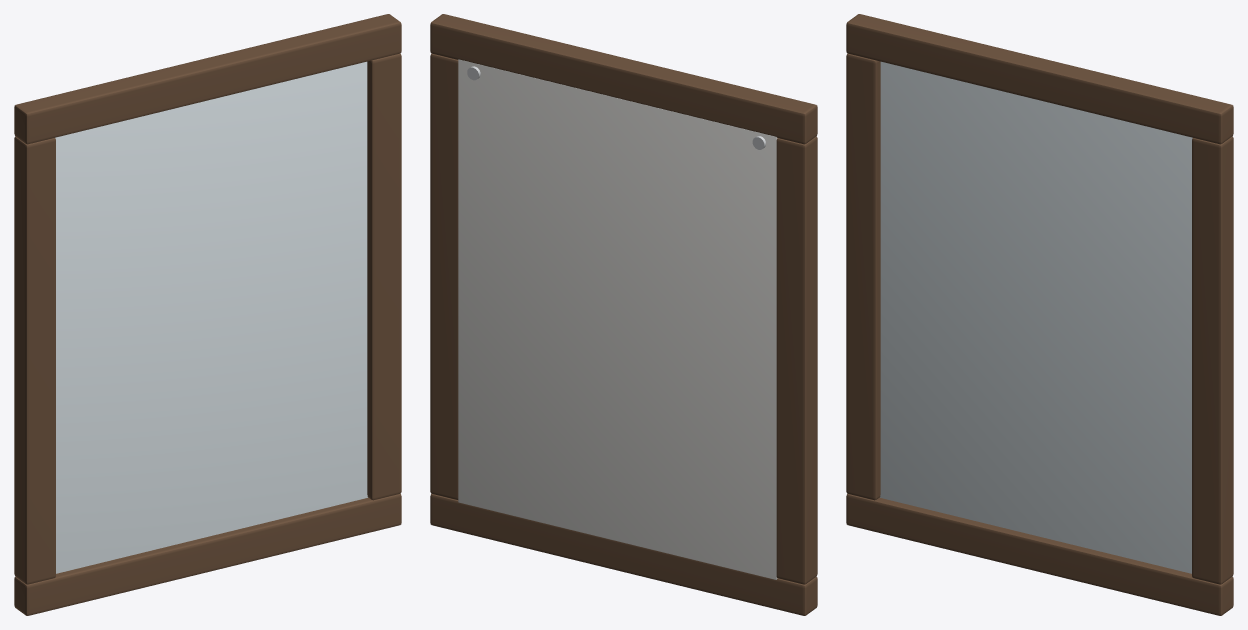
Rendered from frame_portrait.fbx.
3 views of the same model, side by side, from view 1: azimuth 30°, elevation 25°; view 2: azimuth 150°, elevation 25°; view 3: azimuth 330°, elevation 25° (orthographic).
Visible parts, largest first — view 1: EQ_frame_portrait_M_Glass, EQ_frame_portrait_M_FrameWalnut; view 2: EQ_frame_portrait_M_MatWhite, EQ_frame_portrait_M_FrameWalnut; view 3: EQ_frame_portrait_M_Glass, EQ_frame_portrait_M_FrameWalnut.
Part boxes in pixels (bbox=[...]): EQ_frame_portrait_M_Glass: bbox=[55, 61, 367, 573]; EQ_frame_portrait_M_FrameWalnut: bbox=[14, 14, 401, 615]; EQ_frame_portrait_M_MatWhite: bbox=[458, 59, 777, 579]; EQ_frame_portrait_M_FrameWalnut: bbox=[430, 14, 817, 615]; EQ_frame_portrait_M_Glass: bbox=[880, 61, 1192, 573]; EQ_frame_portrait_M_FrameWalnut: bbox=[846, 14, 1233, 615].
Size of the model in its own units: 0.5 by 0.64 by 0.034.
